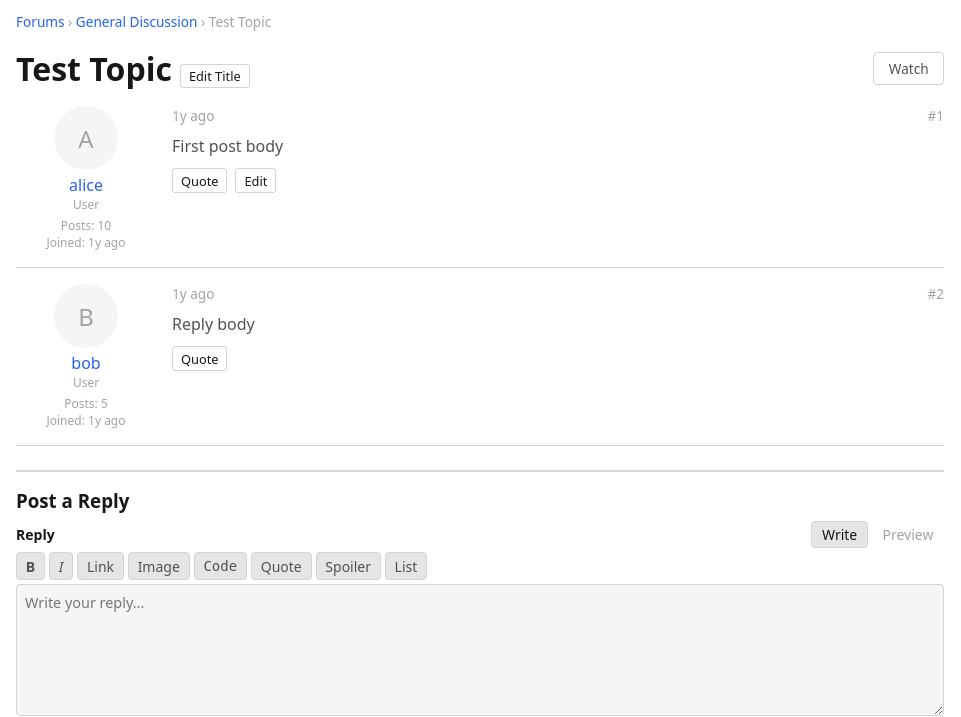
Scenario: ForumTopicViewPage › entering edit mode shows textarea with post body
Expected: the heading "Test Topic Edit Title" is shown, [16, 47, 250, 90]
Click the button "Edit" at (256,181), box [236, 168, 276, 193]
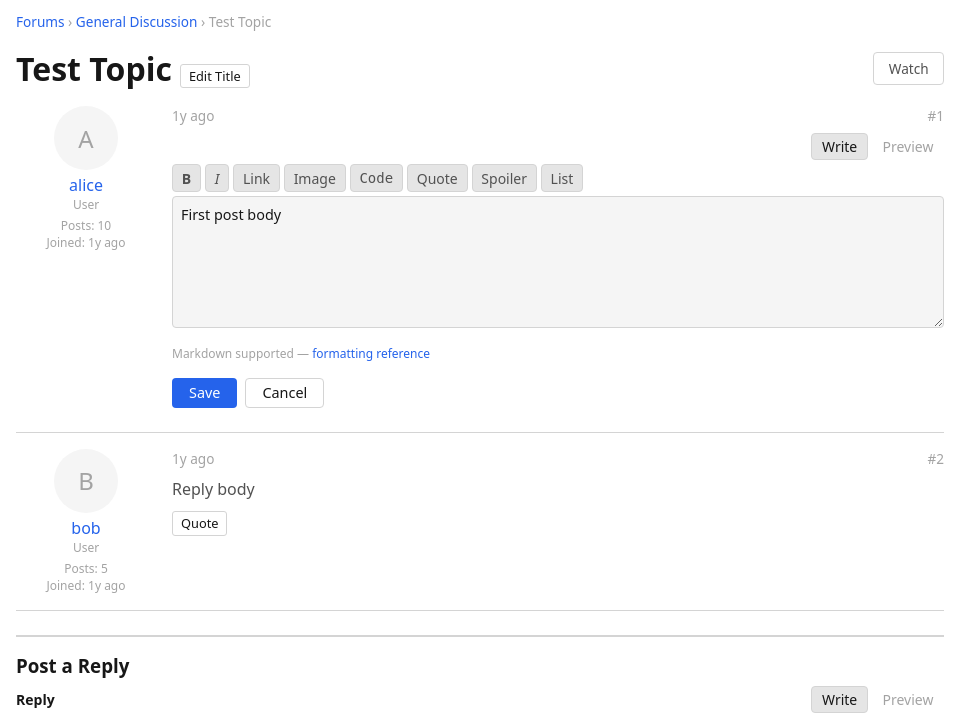
Now the text box with placeholder "Edit your post..." holds "First post body", box [172, 196, 944, 328]
Now the button "Save" is shown, box [172, 378, 237, 408]
